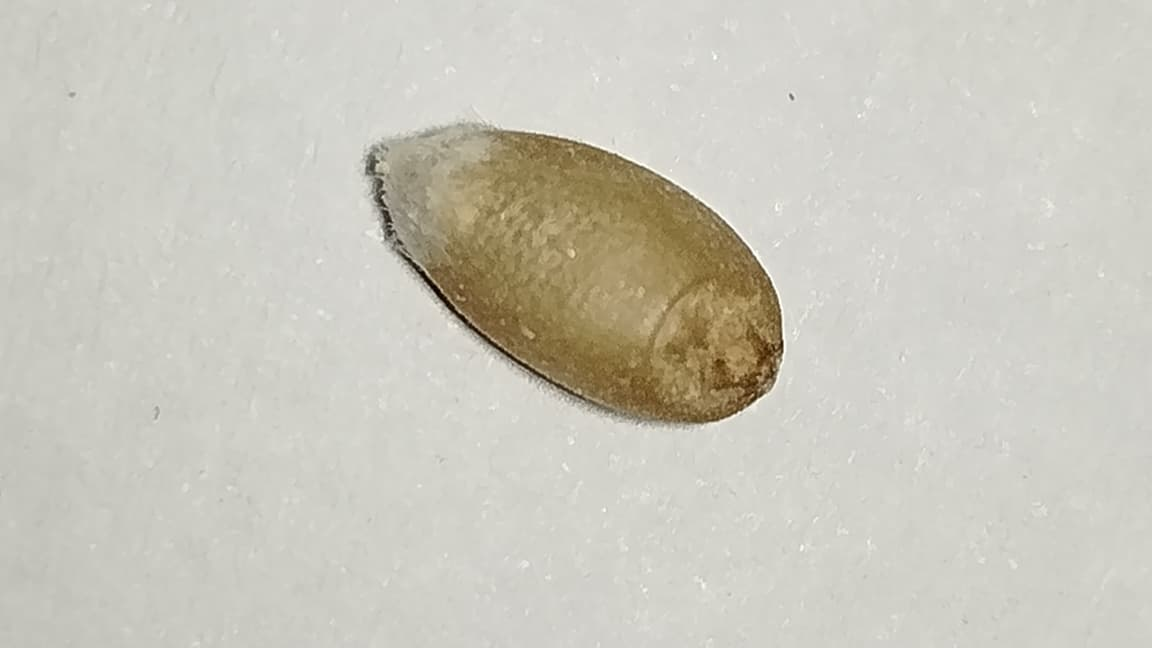damage: (375, 122, 782, 421)
staindamage: (680, 309, 782, 417)
